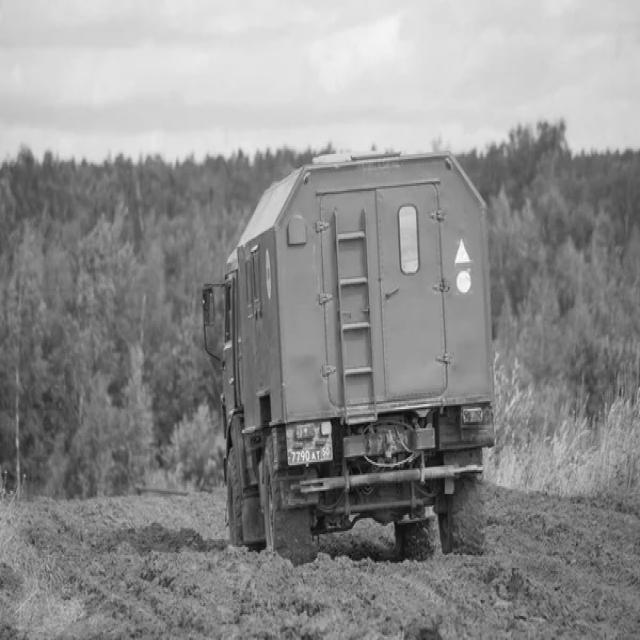Truck: (220, 152, 496, 564)
